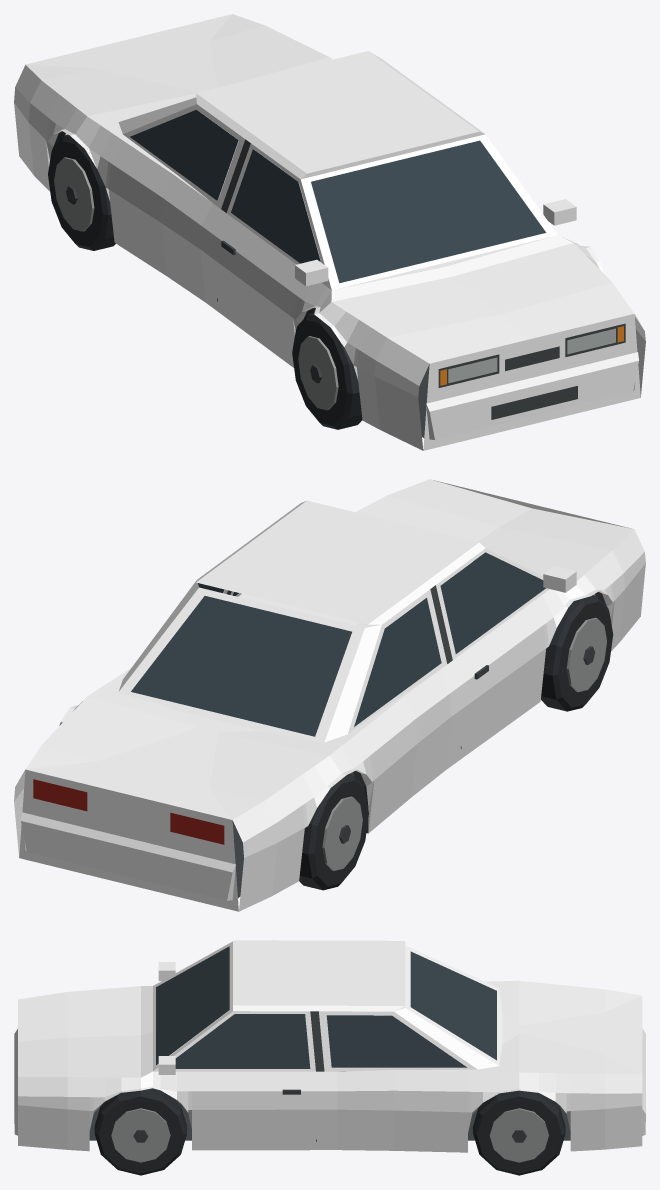
The model's file is hayase_kiri_98.glb.
The picture shows the model from 3 angles, top to bottom: view 1: azimuth 30°, elevation 25°; view 2: azimuth 150°, elevation 25°; view 3: azimuth 270°, elevation 25°; orthographic projection. The views are drawn at different scales.
Visible parts, largest first — view 1: hayase_kiri_98; view 2: hayase_kiri_98; view 3: hayase_kiri_98.
Part boxes in pixels (box(x1,y1,x2,y2)): hayase_kiri_98: box(14, 14, 645, 450); hayase_kiri_98: box(14, 479, 645, 911); hayase_kiri_98: box(14, 940, 645, 1175).
Size of the model in its own units: 1.74 by 1.19 by 4.44.
Materials: 8 (1 with a texture image).
